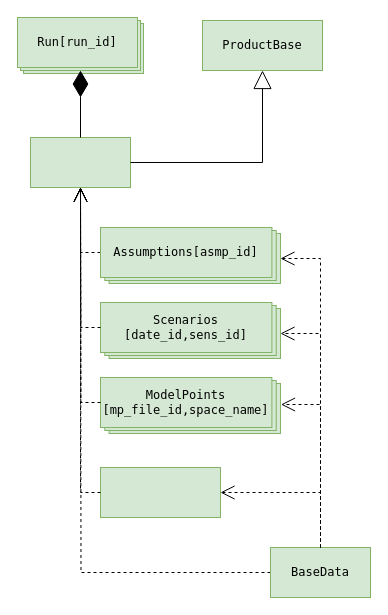
Some shapes in this 388 by 615 pixel diagram are drawn without their labels. The box of each missing label's shape, as (x1, y1, x2, y2) in pixels:
GMXB: (30, 136, 130, 188)
Mortality: (100, 466, 220, 518)
